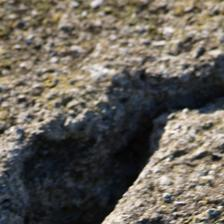Crack: (17, 85, 219, 222)
